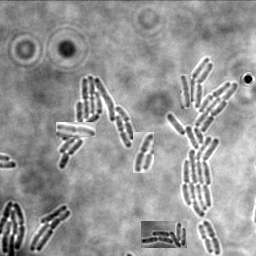Dividing: (133, 132, 154, 173), (204, 219, 222, 255), (56, 122, 96, 137), (199, 223, 215, 253), (180, 74, 191, 109)
Microcolony: (167, 57, 238, 216), (59, 75, 136, 169), (30, 204, 72, 251), (1, 200, 26, 255), (141, 221, 187, 248)
